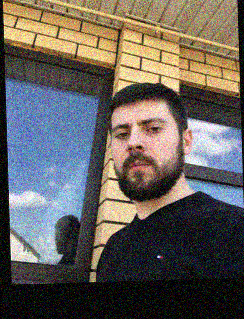without_mask: (111, 111, 181, 199)
